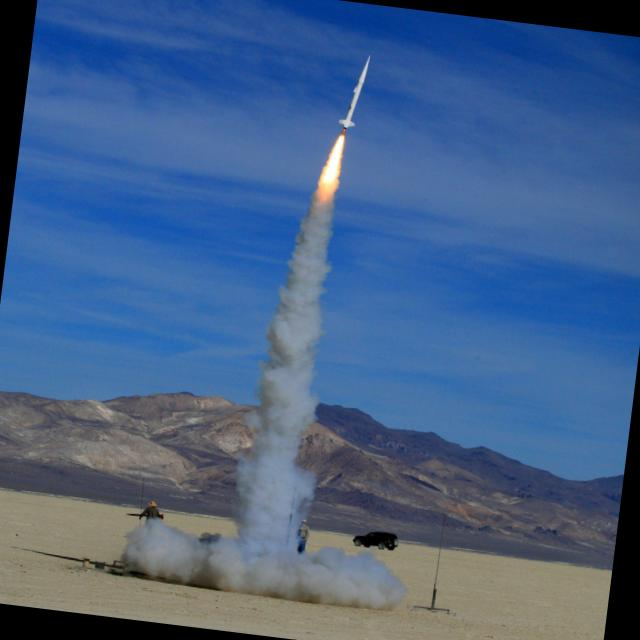rocket: (277, 46, 377, 342)
